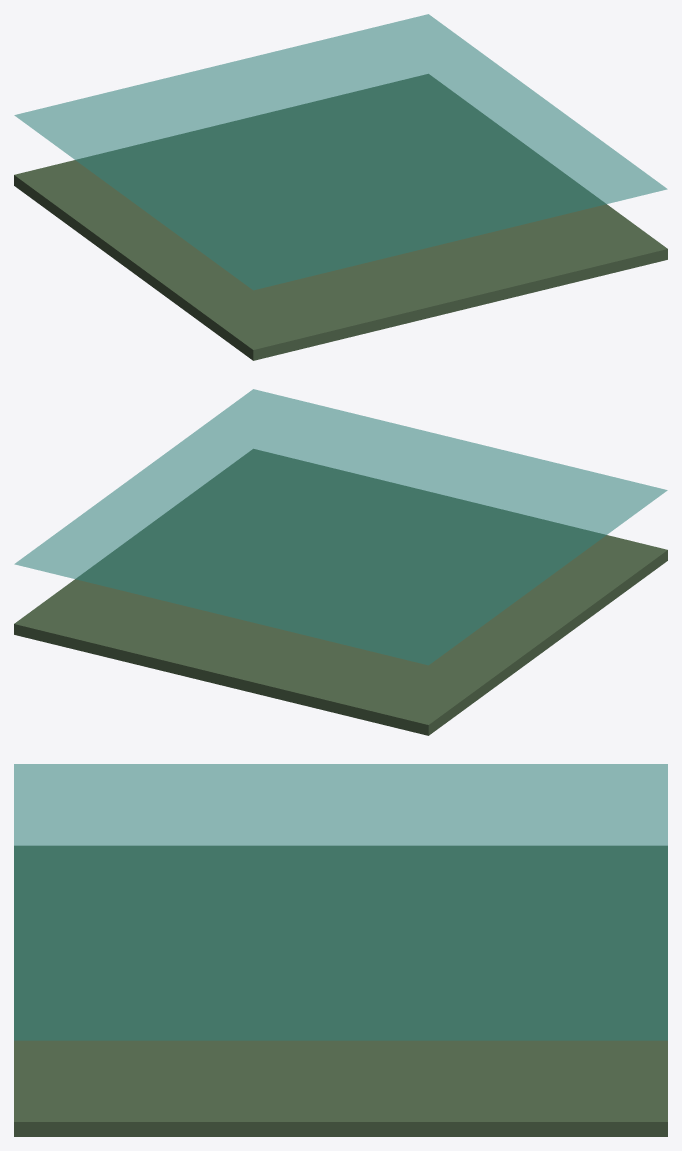
The model's file is city_canal_water_8.glb.
The picture shows the model from 3 angles, top to bottom: view 1: azimuth 30°, elevation 25°; view 2: azimuth 150°, elevation 25°; view 3: azimuth 270°, elevation 25°; orthographic projection. The views are drawn at different scales.
Visible parts, largest first — view 1: CityCanalWater8_Bed, CityCanalWater8_Water; view 2: CityCanalWater8_Bed, CityCanalWater8_Water; view 3: CityCanalWater8_Bed, CityCanalWater8_Water.
Part boxes in pixels (x1,y1,x2,y2): CityCanalWater8_Bed: (14, 74, 667, 360); CityCanalWater8_Water: (14, 14, 667, 290); CityCanalWater8_Bed: (14, 449, 667, 735); CityCanalWater8_Water: (14, 389, 667, 665); CityCanalWater8_Bed: (14, 845, 667, 1136); CityCanalWater8_Water: (14, 764, 667, 1040).
Size of the model in its own units: 8 by 1.3 by 8.
